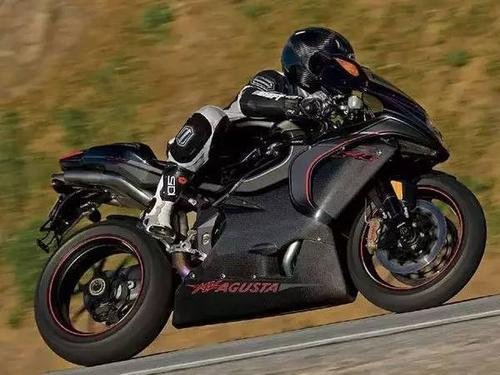motor: (32, 75, 484, 359)
